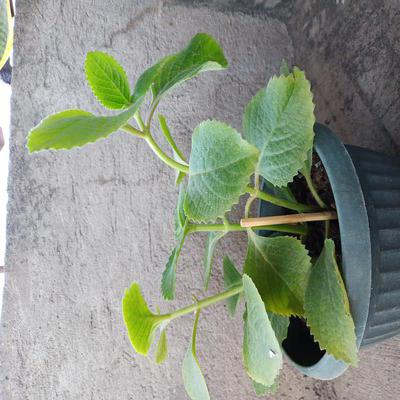Oregano: (45, 74, 328, 384)
